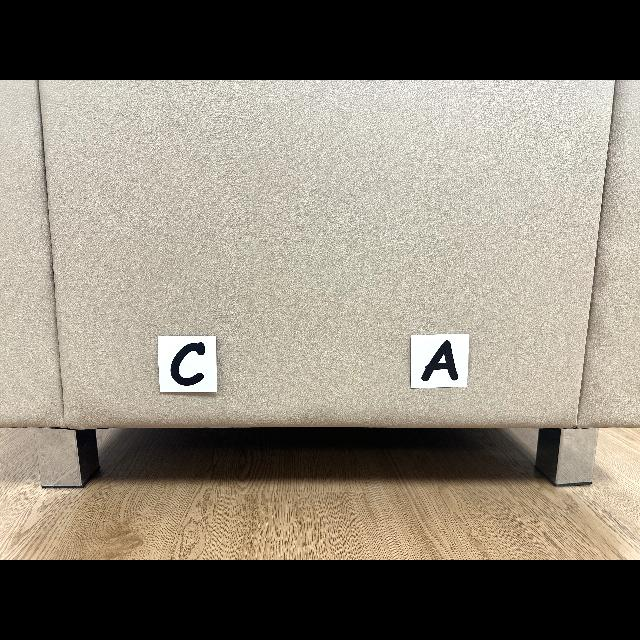A: (421, 340, 459, 381)
C: (170, 342, 205, 385)
